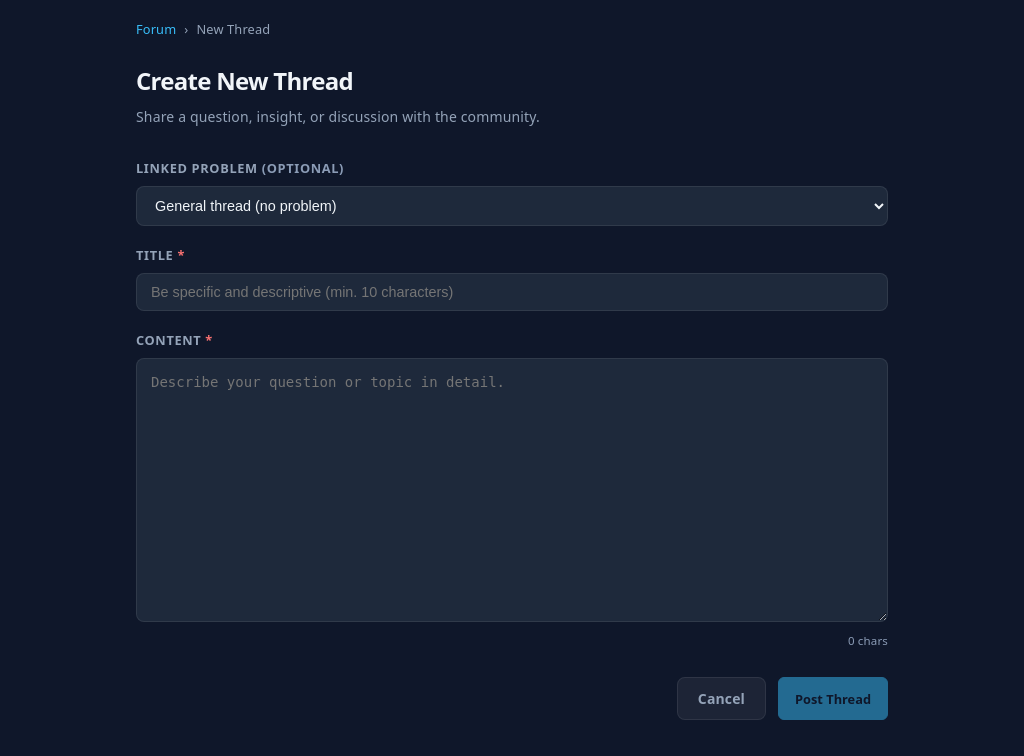
Scenario: NewThreadPage (live create) › keeps the form usable and shows the API error when creation fails
Type "A valid thread title" into the field labelled "Title *" at (512, 292), box [136,273,888,311]
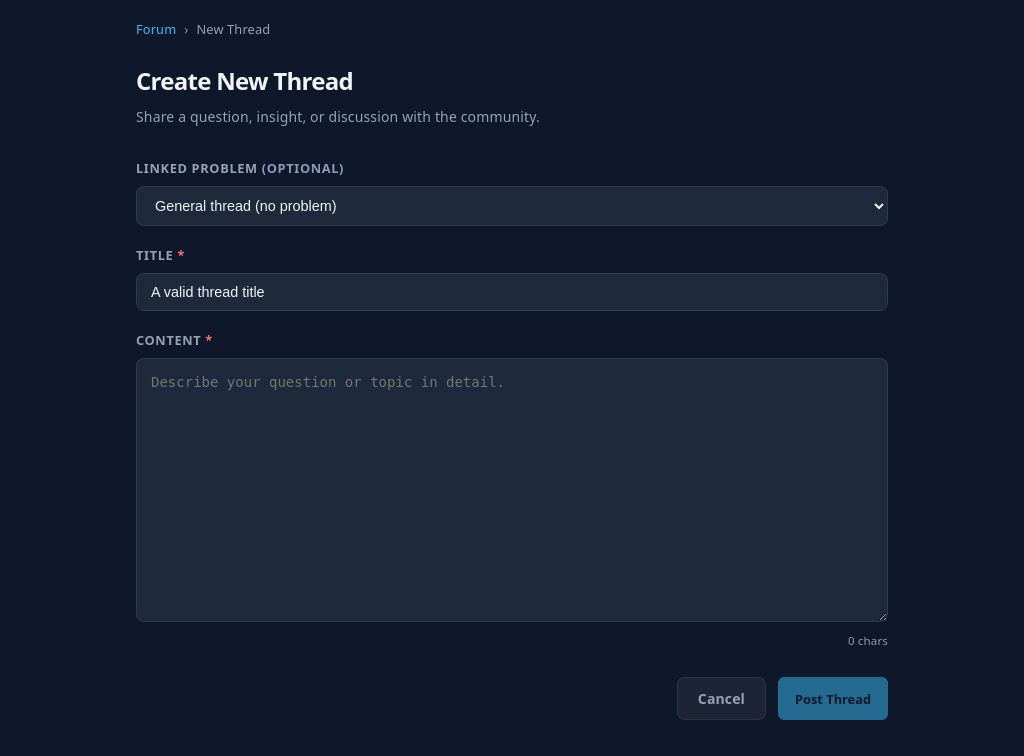
Type "A sufficiently long body text." into the text box labelled "Content *" at (512, 490), box [136,358,888,622]
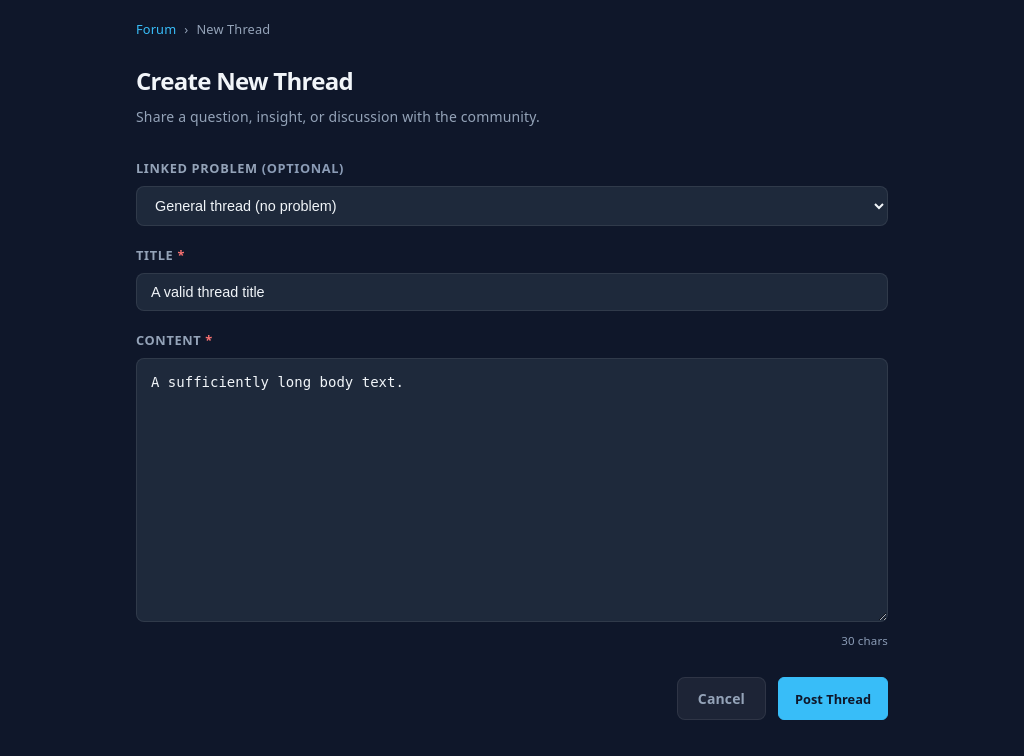
Click the button "Post Thread" at (833, 699), box [778,677,888,720]
(page scrolled)
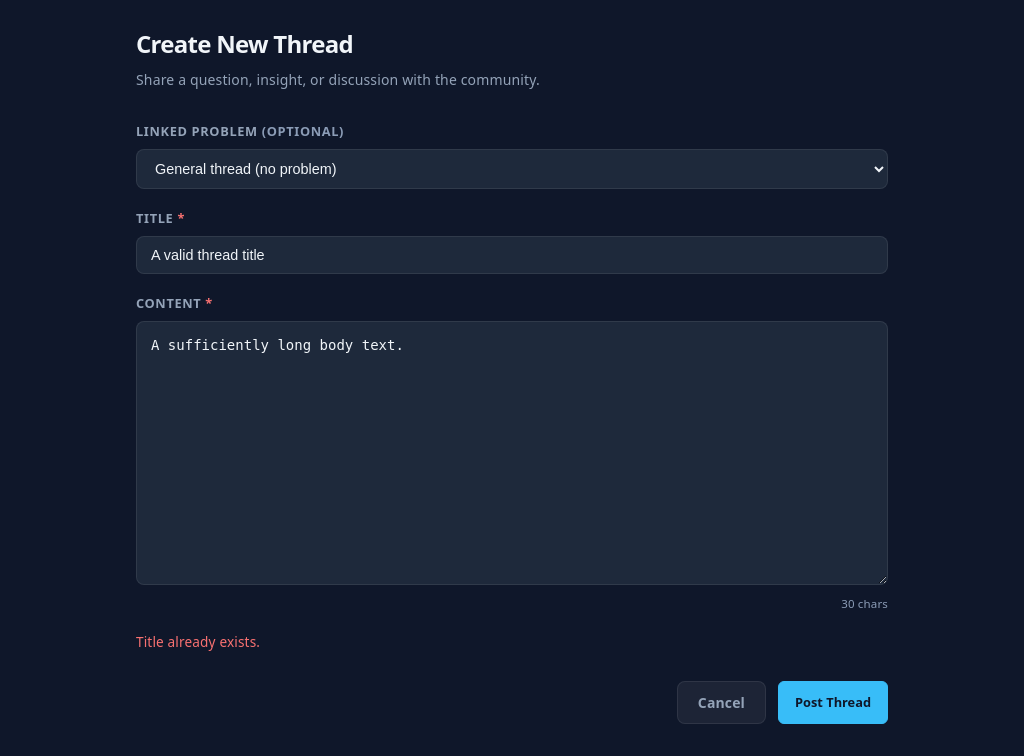
Expected: the message reads "Title already exists.", [136,632,260,651]
